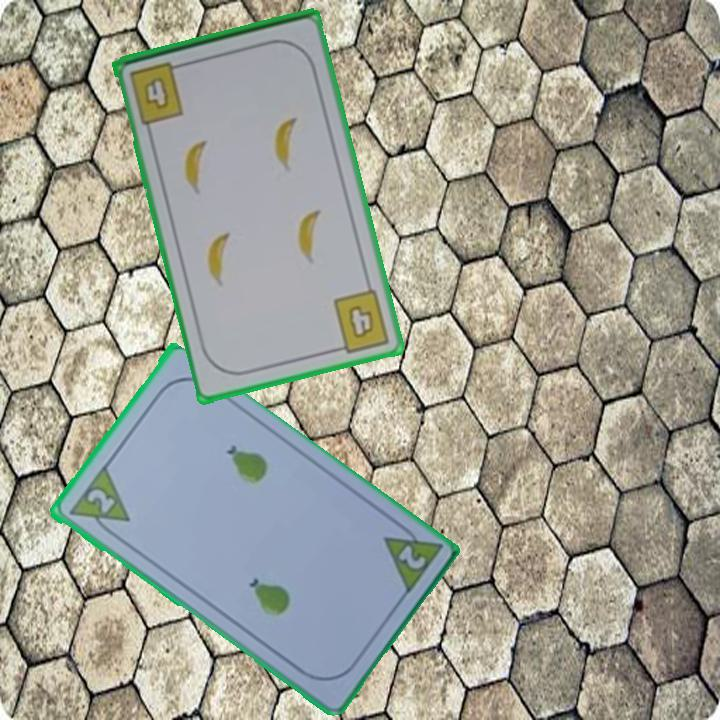2p: (64, 464, 133, 541), (393, 541, 428, 573)
4b: (125, 58, 189, 127), (330, 286, 393, 356)
